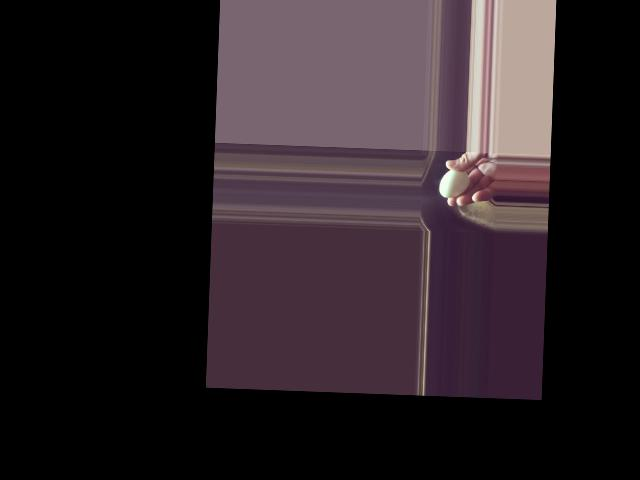egg: (439, 169, 469, 198)
